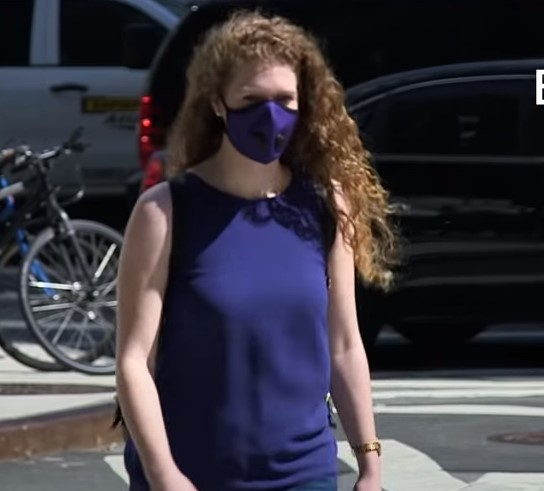face_with_mask: (193, 26, 322, 171)
